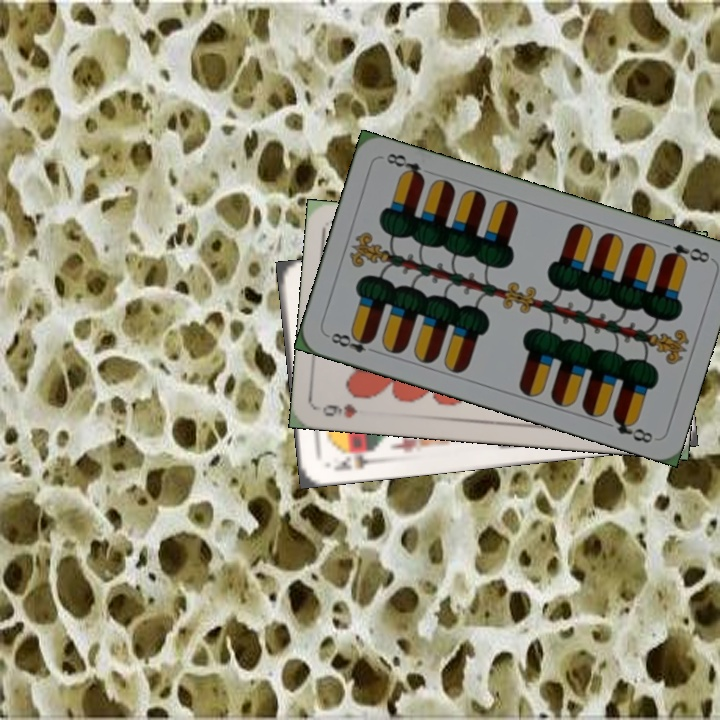E8: (326, 328, 381, 357), (660, 240, 713, 267)
H9: (318, 399, 360, 421)
SK: (329, 445, 381, 474)
